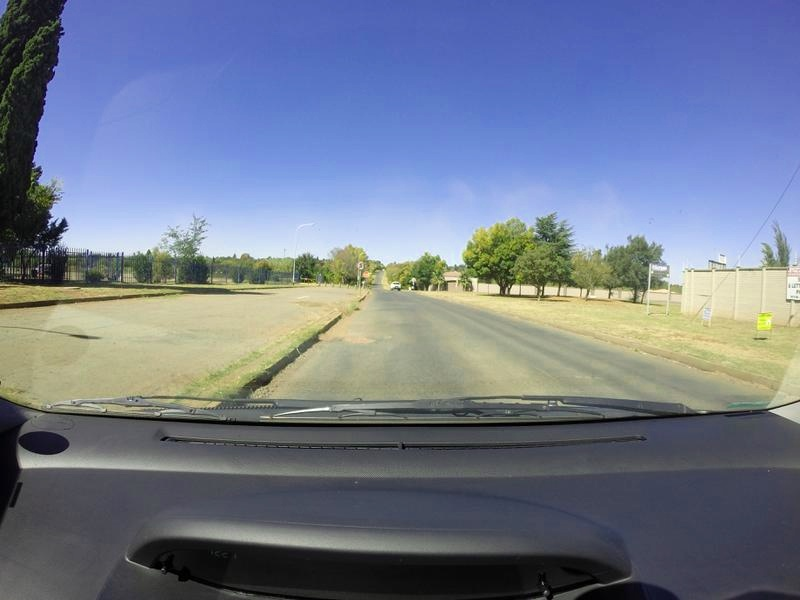pothole: (323, 326, 385, 345)
